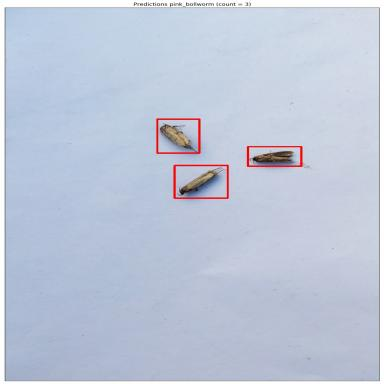pbw: (324, 316, 384, 360)
